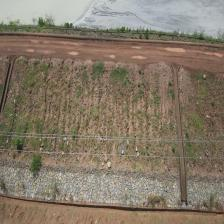rock toe: (0, 159, 181, 208), (186, 175, 224, 209)
slope drain: (172, 64, 187, 204), (0, 56, 16, 121)
